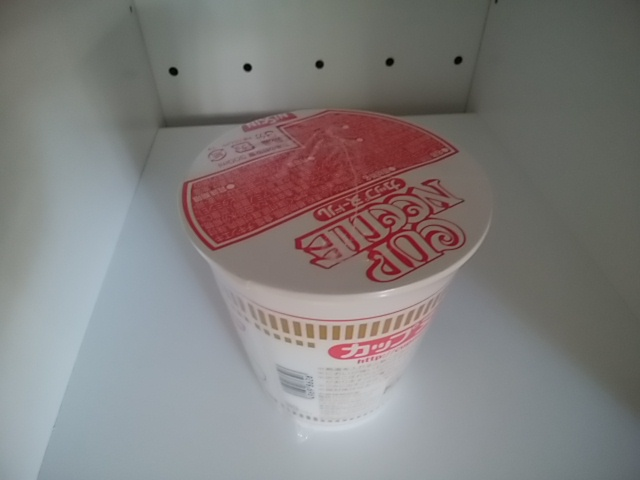cup-ramen: (173, 105, 499, 443)
